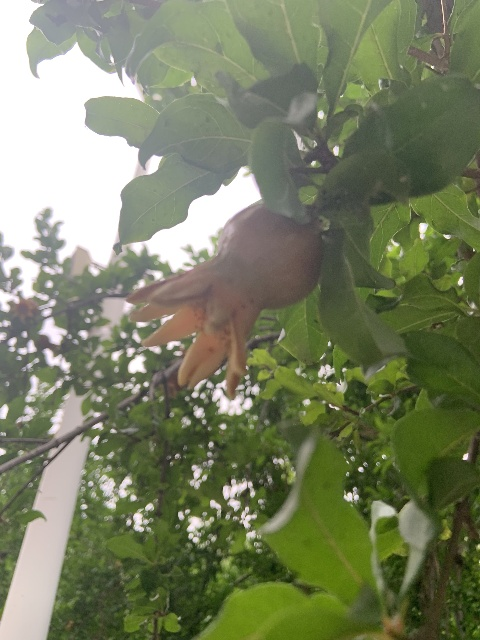early-fruit: (126, 202, 323, 400)
